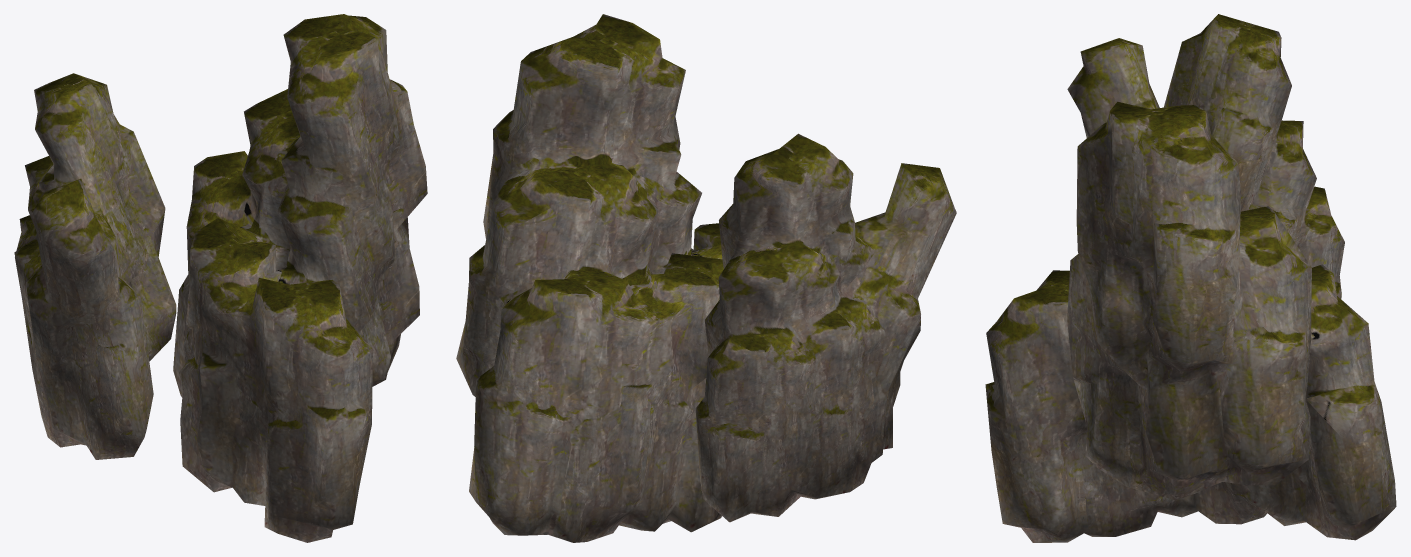
Rendered from SM_PROXY_SM_Cliff_01e.fbx.
The picture shows the model from 3 angles, left to right: view 1: azimuth 30°, elevation 25°; view 2: azimuth 150°, elevation 25°; view 3: azimuth 270°, elevation 25°; orthographic projection. The views are drawn at different scales.
Visible parts, largest first — view 1: SM_PROXY_SM_Cliff_01e_LOD0; view 2: SM_PROXY_SM_Cliff_01e_LOD0; view 3: SM_PROXY_SM_Cliff_01e_LOD0.
Part boxes in pixels (x1,y1,x2,y2): SM_PROXY_SM_Cliff_01e_LOD0: (14, 14, 427, 542); SM_PROXY_SM_Cliff_01e_LOD0: (456, 14, 956, 542); SM_PROXY_SM_Cliff_01e_LOD0: (985, 14, 1396, 542).
Bounding box in the file's own units: 40293 × 32945 × 41548.
